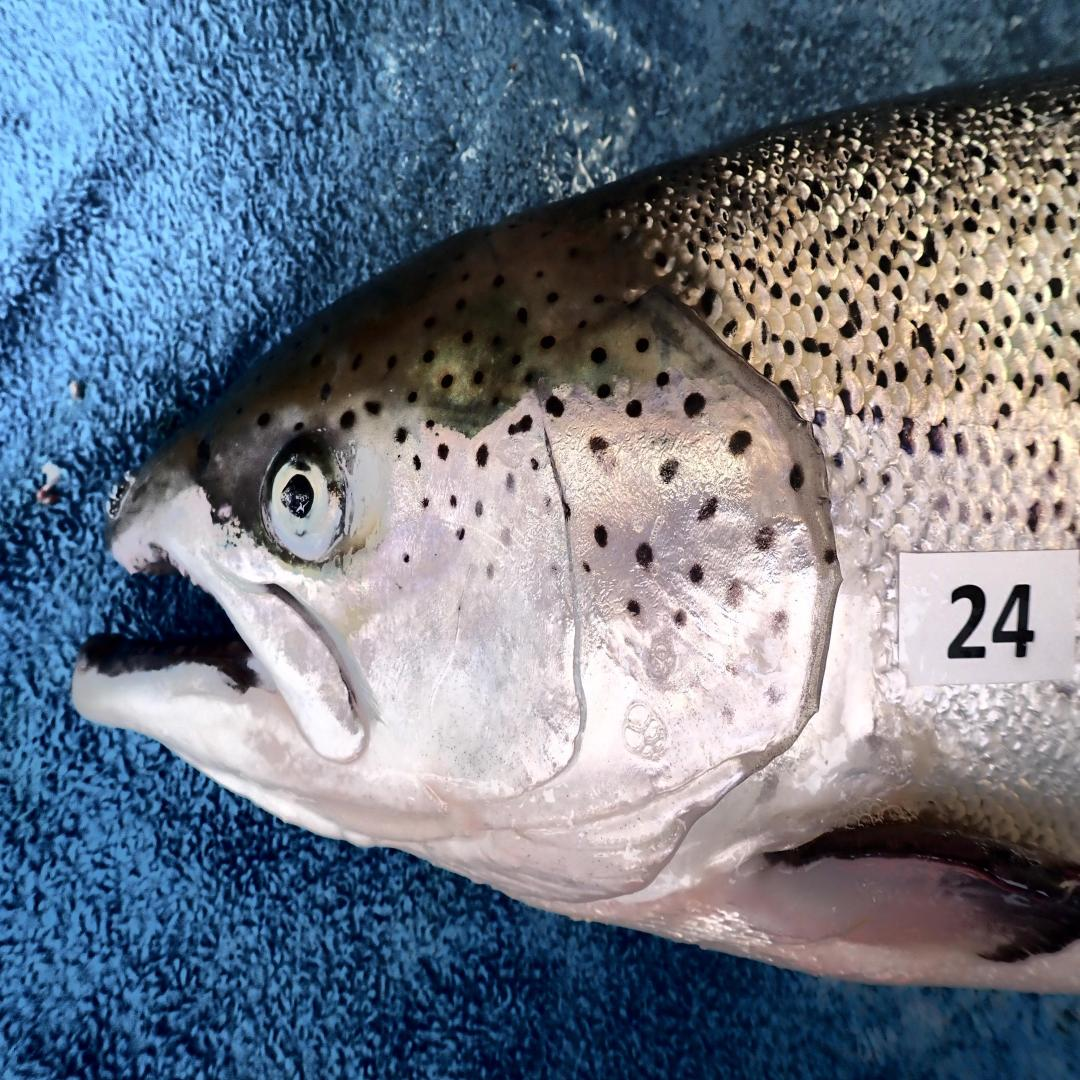spot: (508, 413, 532, 436), (726, 579, 745, 608), (730, 430, 751, 456), (660, 458, 679, 484), (683, 394, 705, 416), (698, 495, 717, 520), (755, 526, 774, 551), (635, 543, 654, 568), (771, 609, 788, 636), (548, 557, 567, 579), (688, 562, 705, 585), (789, 464, 804, 489), (546, 397, 565, 416), (589, 436, 608, 453), (595, 526, 608, 548), (477, 444, 489, 467), (596, 383, 612, 399), (626, 399, 641, 416), (673, 610, 688, 627), (561, 498, 572, 520), (656, 372, 670, 388), (437, 444, 449, 461), (626, 599, 639, 613), (394, 428, 407, 442), (506, 472, 515, 492), (825, 549, 837, 564), (456, 526, 466, 540), (475, 500, 483, 517), (413, 456, 422, 470), (544, 495, 553, 509), (486, 563, 493, 579), (449, 495, 458, 506), (421, 498, 429, 508), (583, 561, 590, 572), (532, 458, 538, 470), (403, 554, 409, 562)
